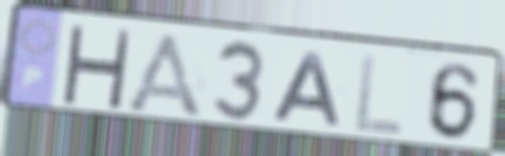3: (210, 38, 268, 124)
6: (427, 59, 485, 144)
A: (120, 30, 208, 123), (269, 50, 345, 129)
H: (58, 22, 134, 112)
L: (351, 51, 408, 138)
